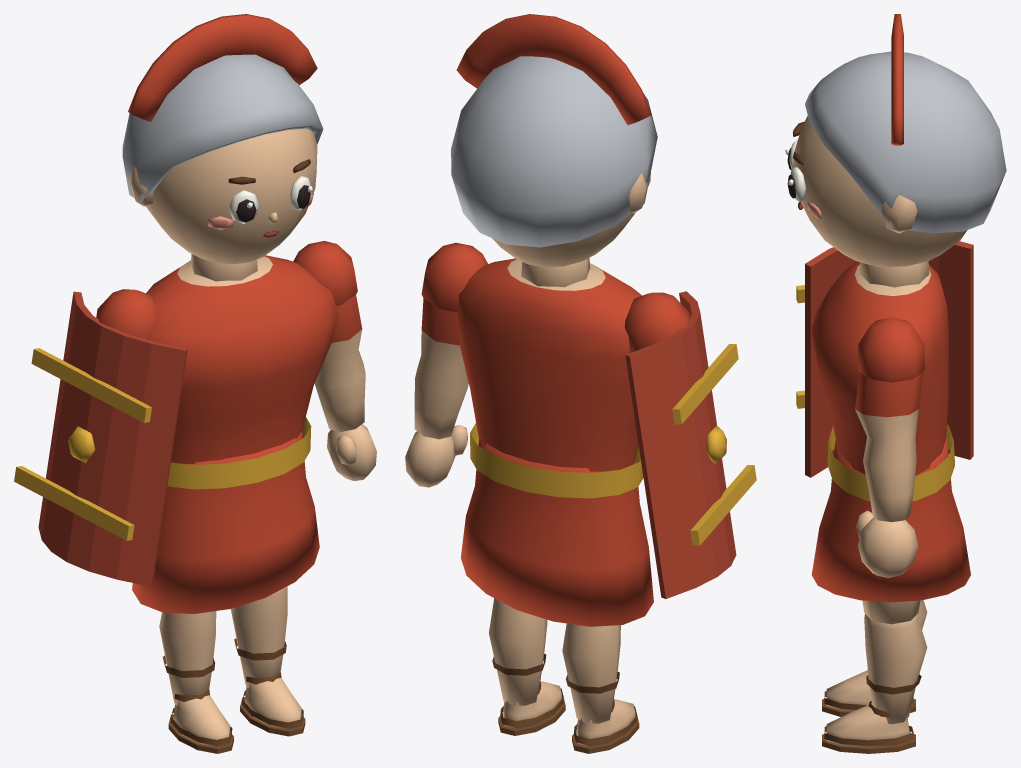
Rendered from legionaer.glb.
The picture shows the model from 3 angles, left to right: view 1: azimuth 30°, elevation 25°; view 2: azimuth 150°, elevation 25°; view 3: azimuth 270°, elevation 25°; orthographic projection. The views are drawn at different scales.
Visible parts, largest first — view 1: rumpf, itemL, kopfschmuck, huefte, kopf, armR, knieL, knieR, armL, augeL; view 2: kopfschmuck, rumpf, huefte, itemL, armR, knieL, knieR, kopf, armL; view 3: kopfschmuck, rumpf, armR, huefte, kopf, itemL, knieR, knieL, beinR, augeR.
Part boxes in pixels (x1,y1,x2,y2): rumpf: (146, 255, 338, 489); itemL: (14, 291, 187, 586); kopfschmuck: (122, 14, 323, 202); huefte: (132, 432, 319, 613); kopf: (129, 128, 317, 281); armR: (293, 241, 376, 480); knieL: (159, 611, 233, 753); knieR: (230, 586, 305, 736); armL: (96, 289, 158, 339); augeL: (228, 190, 259, 223); kopfschmuck: (451, 14, 657, 247); rumpf: (457, 258, 643, 498); huefte: (461, 439, 653, 626); itemL: (625, 291, 756, 598); armR: (405, 242, 487, 487); knieL: (562, 623, 639, 753); knieR: (489, 598, 565, 735); kopf: (492, 172, 650, 287); armL: (624, 292, 690, 352); kopfschmuck: (805, 14, 1006, 233); rumpf: (811, 261, 954, 501); armR: (855, 317, 924, 577); huefte: (811, 437, 970, 602); kopf: (793, 116, 967, 287); itemL: (796, 241, 973, 477); knieR: (822, 614, 927, 753); knieL: (822, 600, 927, 716); beinR: (862, 600, 920, 624); augeR: (787, 167, 805, 201).
Size of the model in its own units: 1.16 by 2.43 by 0.6939.
